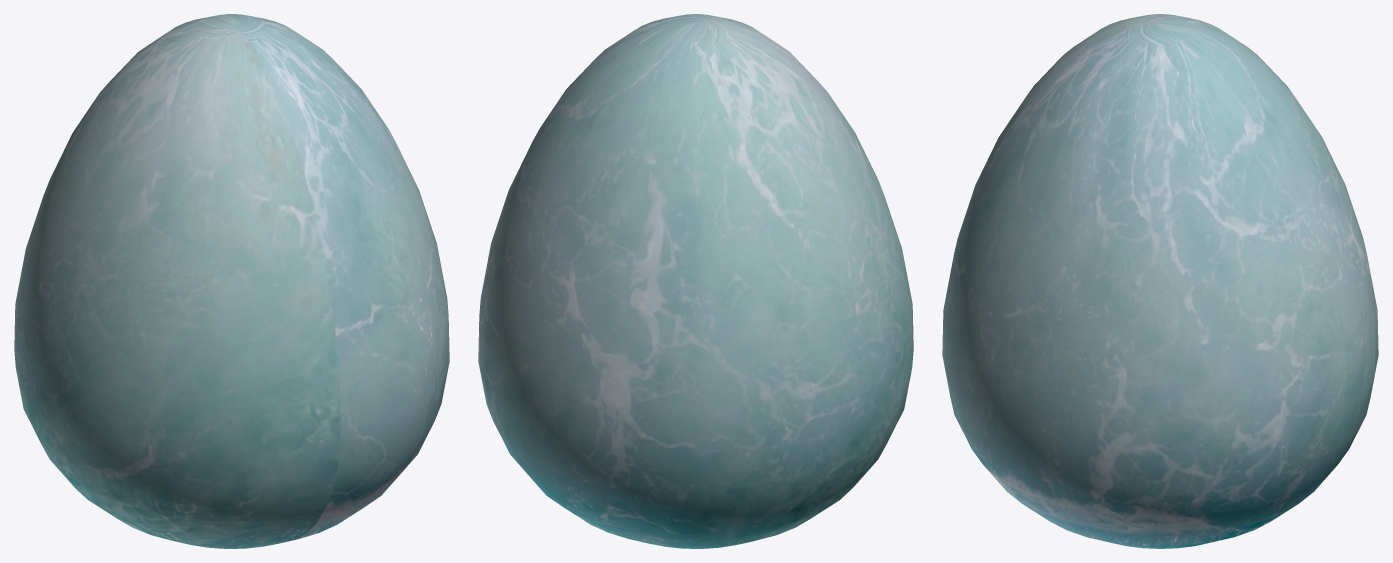
Rendered from Egg3.fbx.
3 renders of one model, left to right at view 1: azimuth 30°, elevation 25°; view 2: azimuth 150°, elevation 25°; view 3: azimuth 270°, elevation 25°, orthographic.
Visible parts, largest first — view 1: Sphere001; view 2: Sphere001; view 3: Sphere001.
Part boxes in pixels (left/top/right/bottom): Sphere001: left=14, top=14, right=449, bottom=548; Sphere001: left=478, top=14, right=913, bottom=548; Sphere001: left=942, top=14, right=1378, bottom=548.
Size of the model in its own units: 195 by 247 by 195.
